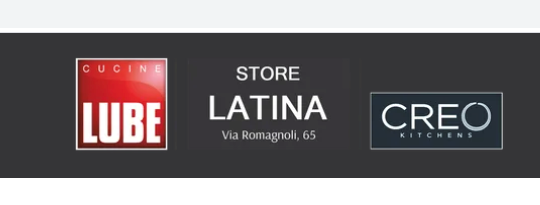creo: (369, 90, 506, 151)
lube: (74, 57, 169, 152)
